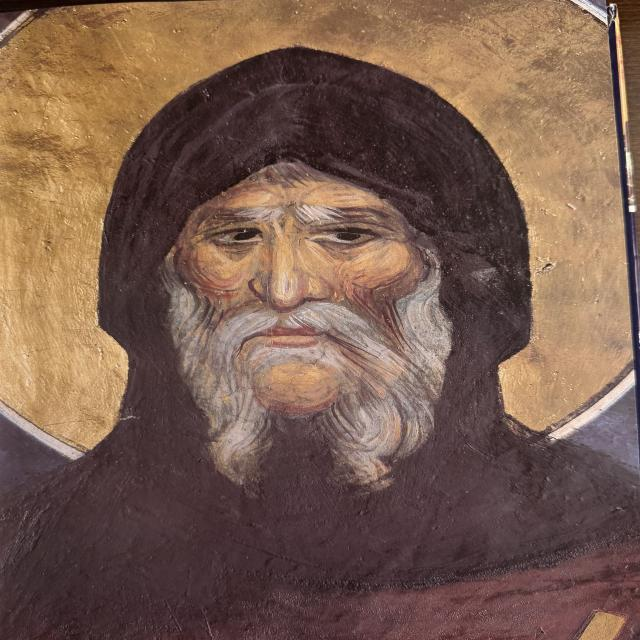aura: (1, 2, 637, 464)
saint: (1, 3, 640, 640)
